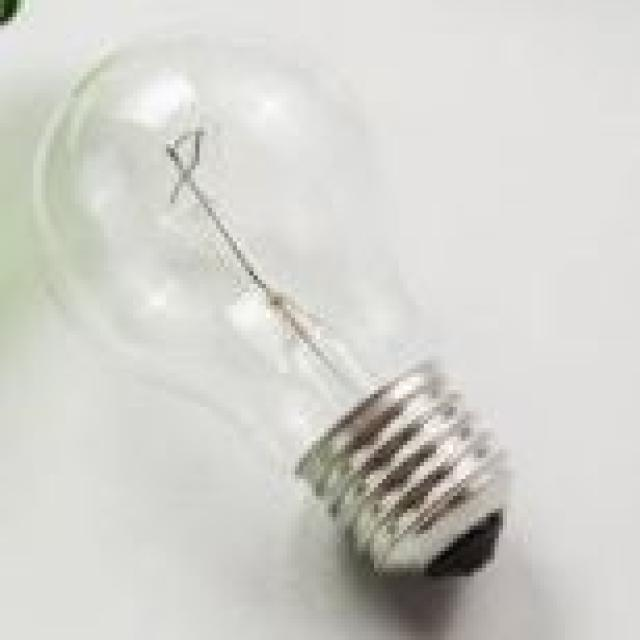electronic: (29, 26, 511, 580)
